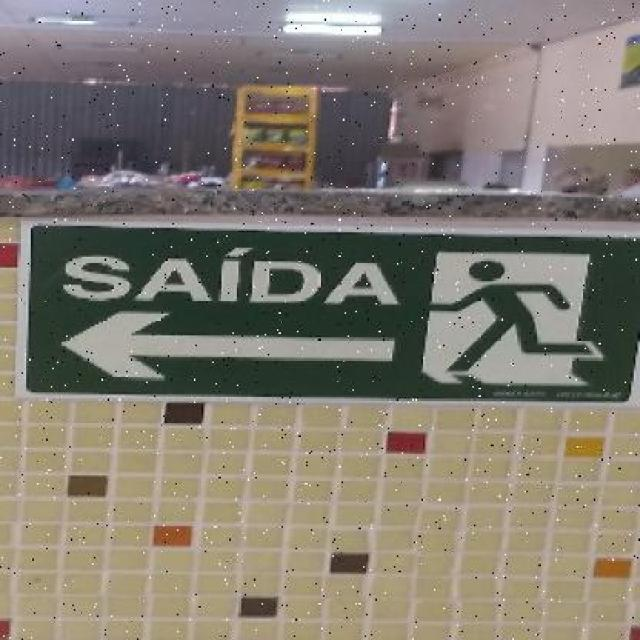exit_sign: (9, 211, 638, 423)
